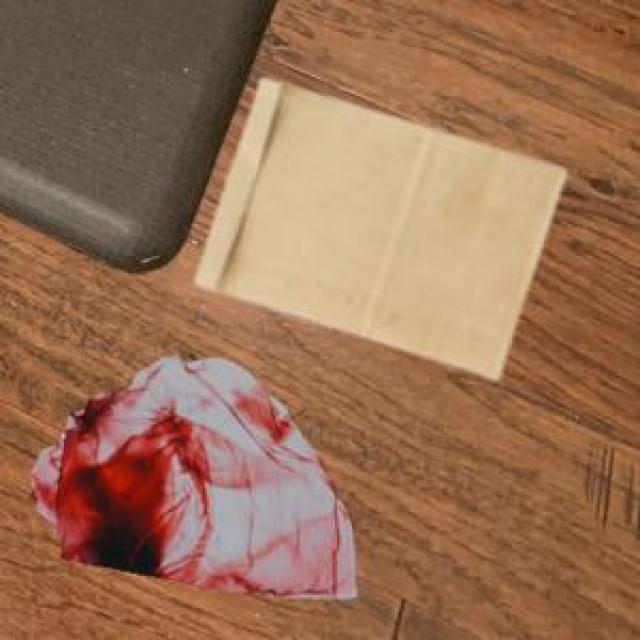paper: (192, 75, 561, 376)
